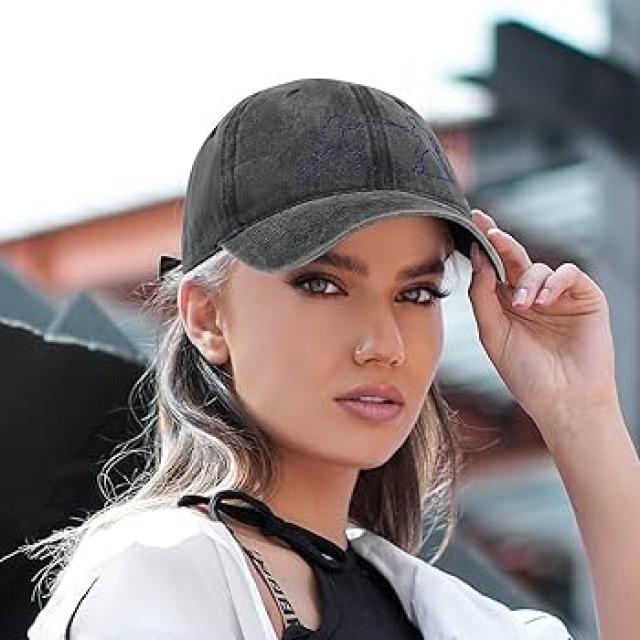Cap: (176, 68, 517, 289)
